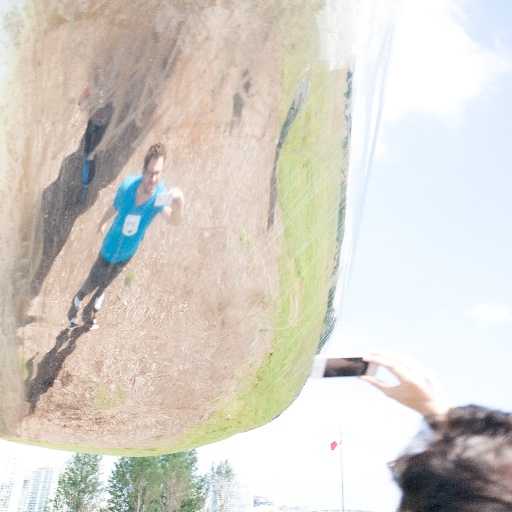hand: (352, 346, 448, 412)
